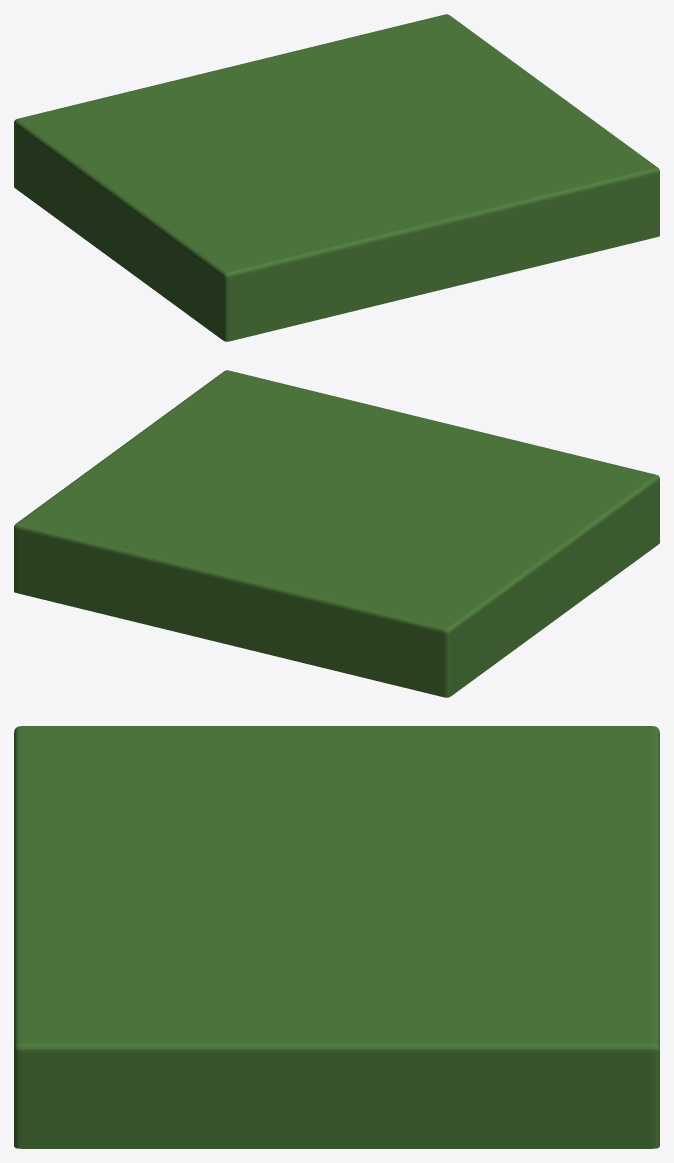
File: Foundation.FBX
The picture shows the model from 3 angles, top to bottom: view 1: azimuth 30°, elevation 25°; view 2: azimuth 150°, elevation 25°; view 3: azimuth 270°, elevation 25°; orthographic projection. The views are drawn at different scales.
Parts seen in each view (by area): view 1: Box022; view 2: Box022; view 3: Box022.
Part boxes in pixels (box(x1,y1,x2,y2)): Box022: box(14, 14, 659, 341); Box022: box(14, 370, 659, 697); Box022: box(14, 726, 659, 1148).
Size of the model in its own units: 840 by 125 by 712.
